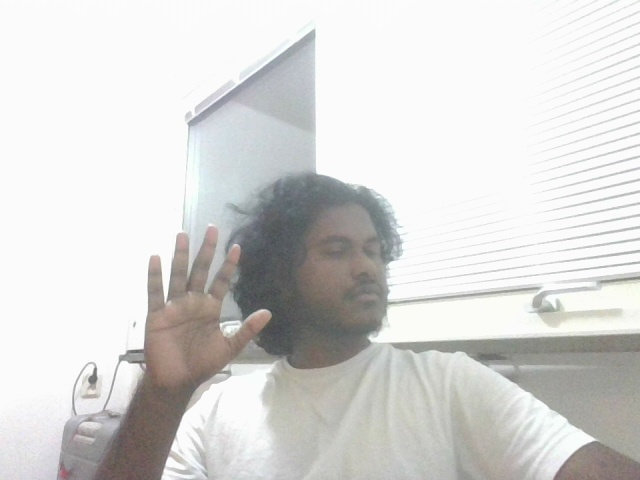hello: (142, 216, 271, 390)
